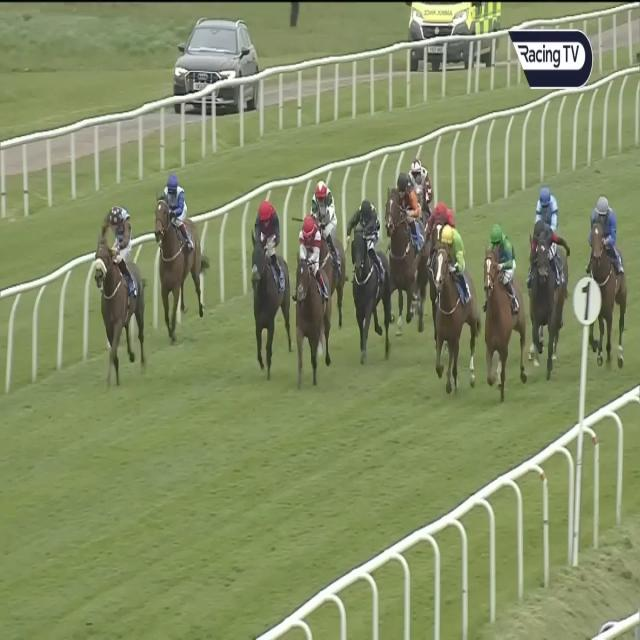horses-racing: (94, 203, 146, 369), (432, 213, 472, 400), (479, 223, 522, 395), (243, 195, 285, 369), (590, 189, 628, 376), (154, 171, 198, 326), (347, 192, 386, 360), (295, 214, 330, 383), (385, 172, 420, 340), (529, 222, 561, 372), (313, 180, 351, 303), (407, 156, 438, 211), (532, 188, 560, 240), (427, 198, 451, 254)
